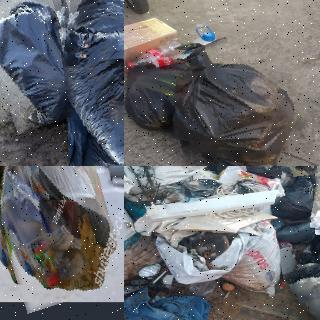Garbage: (164, 30, 311, 166), (0, 166, 124, 307), (0, 0, 91, 129), (153, 212, 284, 297), (62, 16, 124, 166), (124, 51, 202, 137), (67, 0, 124, 61), (274, 171, 320, 220)
